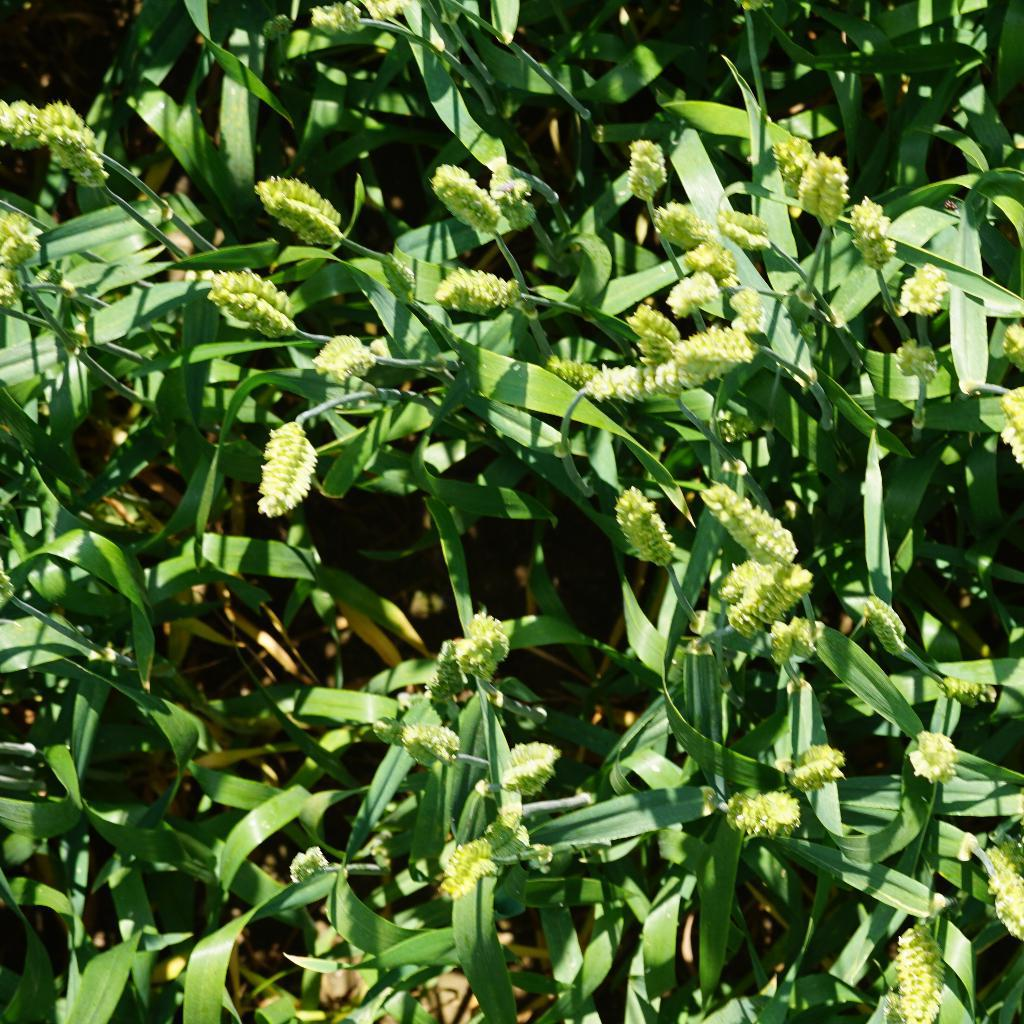0-0: (700, 556, 822, 638), (697, 481, 813, 565), (603, 481, 699, 577), (201, 260, 303, 347), (254, 164, 352, 250), (25, 96, 112, 189), (252, 409, 321, 525), (0, 89, 108, 159), (884, 911, 947, 1024), (653, 328, 759, 388), (422, 832, 506, 903), (434, 161, 508, 240), (707, 776, 806, 834), (432, 256, 527, 313), (787, 149, 851, 231), (391, 716, 473, 778), (452, 606, 513, 689), (671, 318, 776, 366), (888, 340, 960, 410), (980, 838, 1024, 952), (851, 586, 914, 664), (843, 200, 904, 279), (478, 739, 565, 793), (904, 733, 974, 800), (305, 330, 386, 387), (769, 126, 821, 212), (931, 661, 1005, 721), (486, 161, 545, 235), (896, 249, 952, 325), (758, 612, 825, 675), (586, 359, 661, 413), (608, 133, 673, 195), (474, 808, 538, 869), (612, 298, 673, 359), (275, 836, 339, 894), (709, 280, 777, 333), (713, 201, 777, 256), (781, 739, 847, 792), (421, 635, 471, 703), (649, 200, 714, 249), (375, 248, 424, 313), (292, 0, 382, 34), (662, 273, 724, 320), (0, 218, 45, 280), (533, 352, 589, 396), (683, 243, 737, 283)
